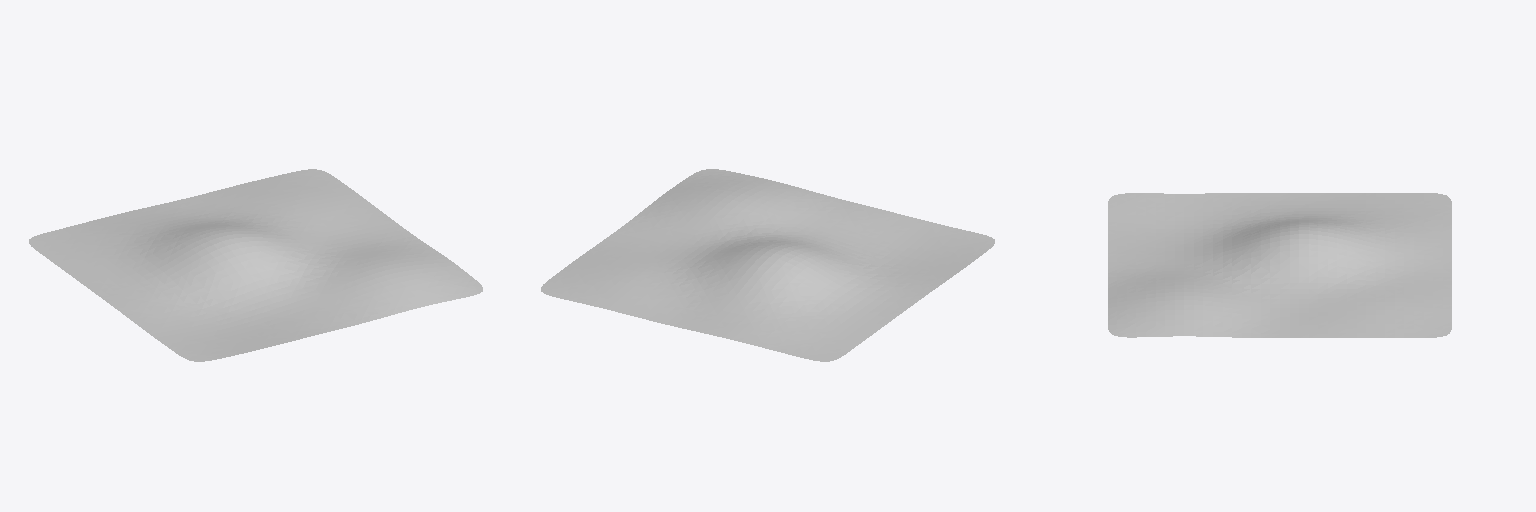
The model's file is hills.obj.
3 views of the same model, side by side, from view 1: azimuth 30°, elevation 25°; view 2: azimuth 150°, elevation 25°; view 3: azimuth 270°, elevation 25° (orthographic).
Visible parts, largest first — view 1: Hills_Grid; view 2: Hills_Grid; view 3: Hills_Grid.
Part boxes in pixels (x1,y1,x2,y2): Hills_Grid: (29,169,482,361); Hills_Grid: (541,169,994,361); Hills_Grid: (1108,193,1451,337).
Bounding box in the file's own units: 3.23 × 0.2859 × 3.23.